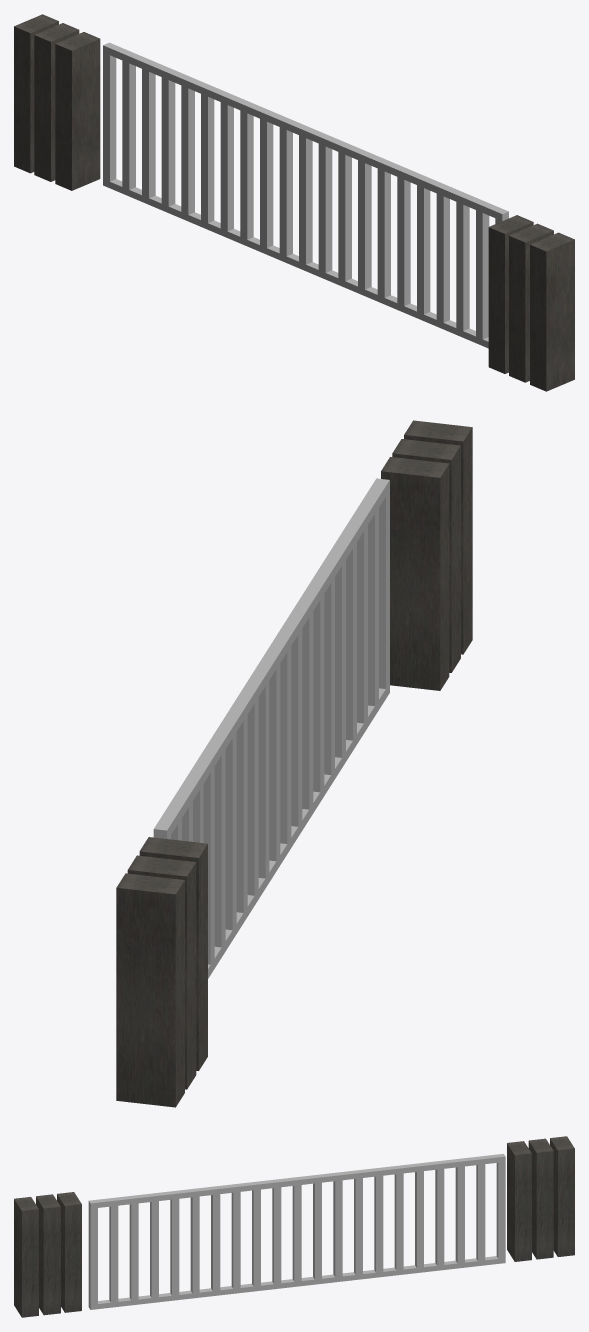
File: Valla.fbx
The picture shows the model from 3 angles, top to bottom: view 1: azimuth 30°, elevation 25°; view 2: azimuth 150°, elevation 25°; view 3: azimuth 270°, elevation 25°; orthographic projection. The views are drawn at different scales.
Visible parts, largest first — view 1: Cube.001; view 2: Cube.001; view 3: Cube.001.
Part boxes in pixels (x1=…): Cube.001: x1=14, y1=14, x2=574, y2=391; Cube.001: x1=116, y1=420, x2=472, y2=1107; Cube.001: x1=14, y1=1136, x2=574, y2=1317.
Bounding box in the file's own units: 1156 × 765 × 3653.
